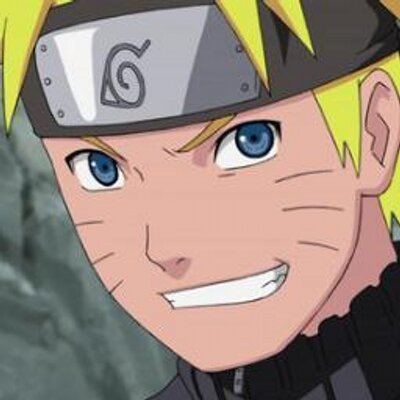naruto: (13, 2, 400, 373)
